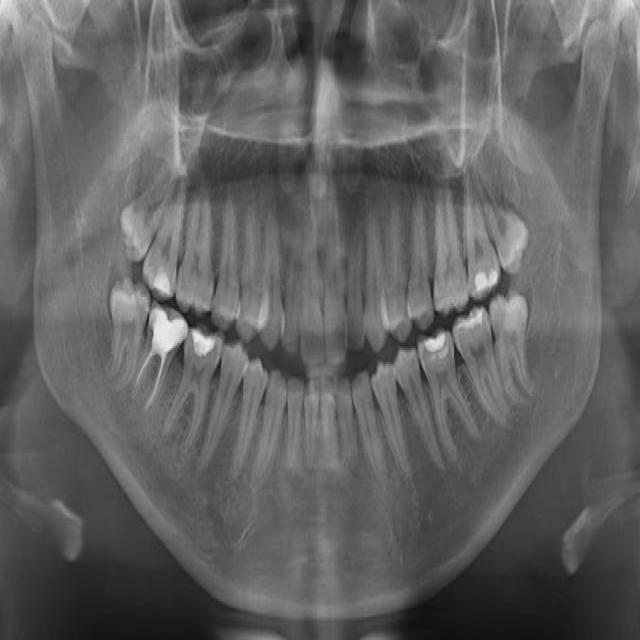dolgu: (152, 304, 190, 357), (416, 321, 454, 369), (466, 251, 502, 296), (188, 323, 222, 370), (147, 254, 178, 298)
kanal-tedavisi: (128, 342, 170, 413)
